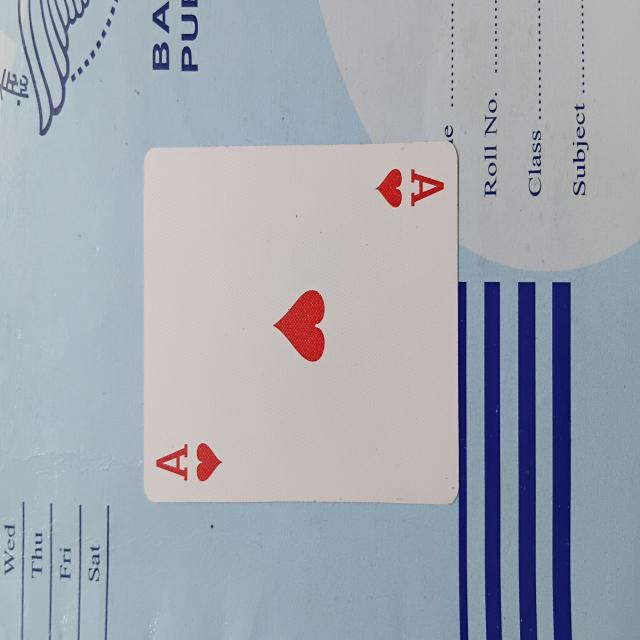AH: (143, 139, 460, 502)
